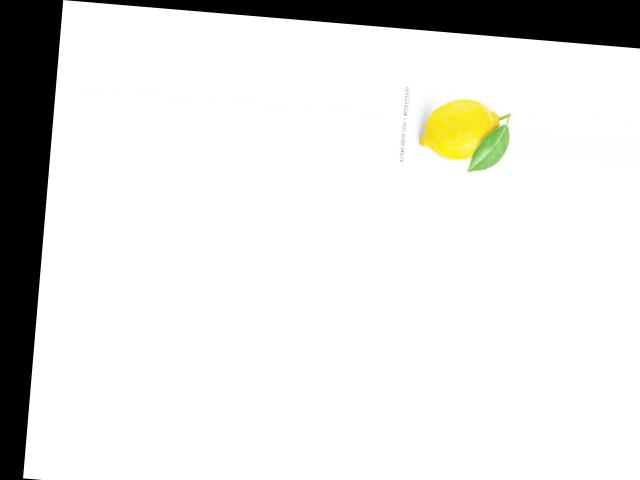lemon: (417, 93, 505, 171)
